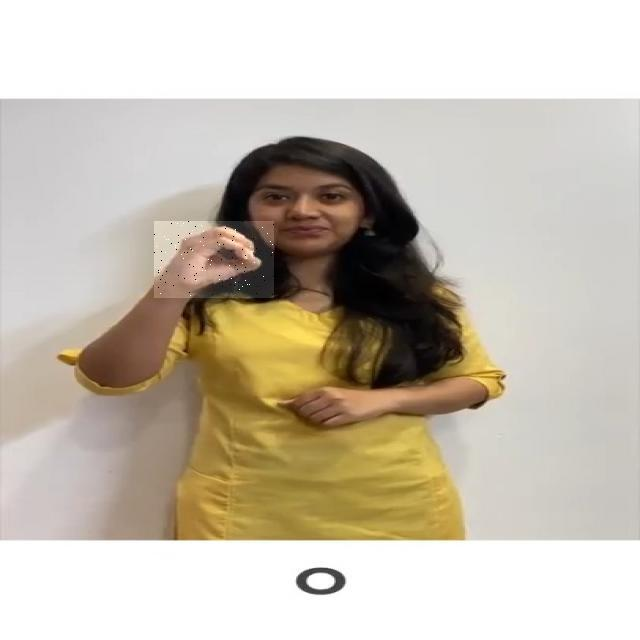O: (154, 221, 274, 298)
